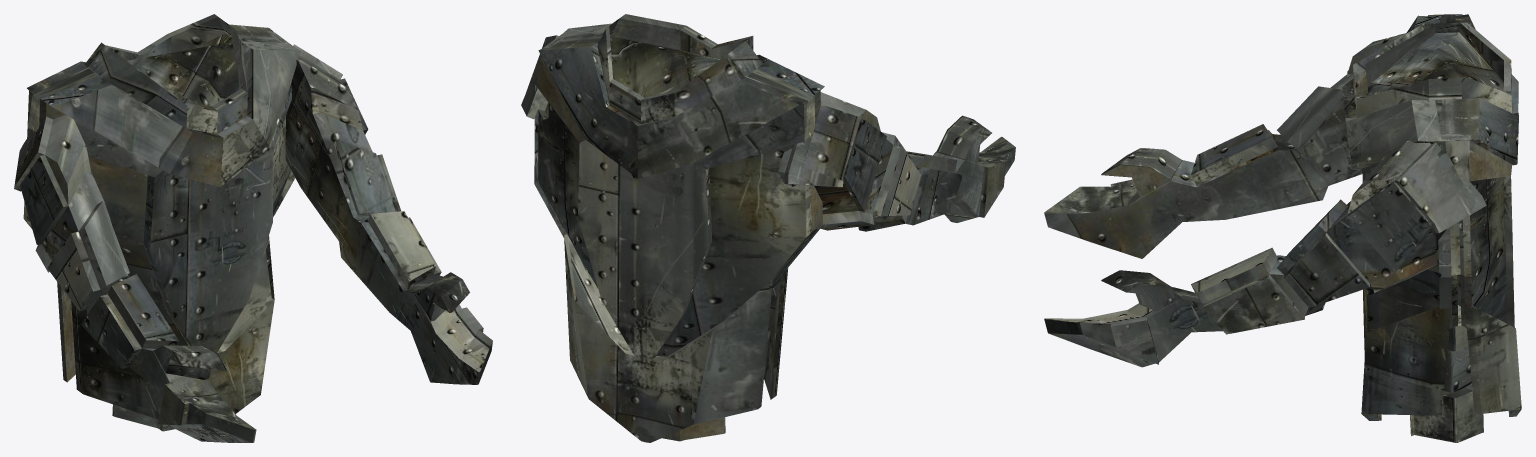
The model's file is basicTorsoNew.fbx.
3 views of the same model, side by side, from view 1: azimuth 30°, elevation 25°; view 2: azimuth 150°, elevation 25°; view 3: azimuth 270°, elevation 25° (orthographic). The views are drawn at different scales.
Parts seen in each view (by area): view 1: ChestplateGEN.003; view 2: ChestplateGEN.003; view 3: ChestplateGEN.003.
Boxes of the visible parts, bbox=[...] form: ChestplateGEN.003: bbox=[14, 14, 492, 442]; ChestplateGEN.003: bbox=[521, 14, 1015, 442]; ChestplateGEN.003: bbox=[1044, 14, 1521, 442].
Bounding box in the file's own units: 235 × 269 × 309.
